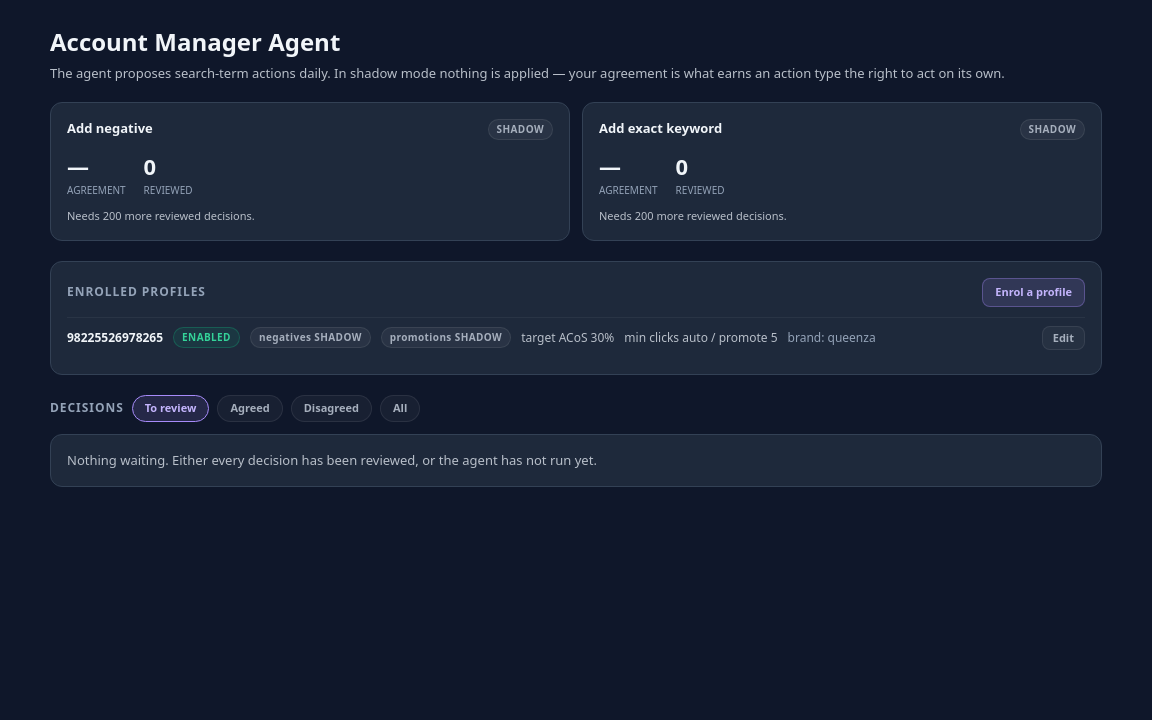
Test case: AgentPanel edit form › loads every stored value into its field
Expected: the text "98225526978265" is shown, [67,329,163,347]
Click the button "Edit" at (1063, 338), box [1042,326,1085,350]
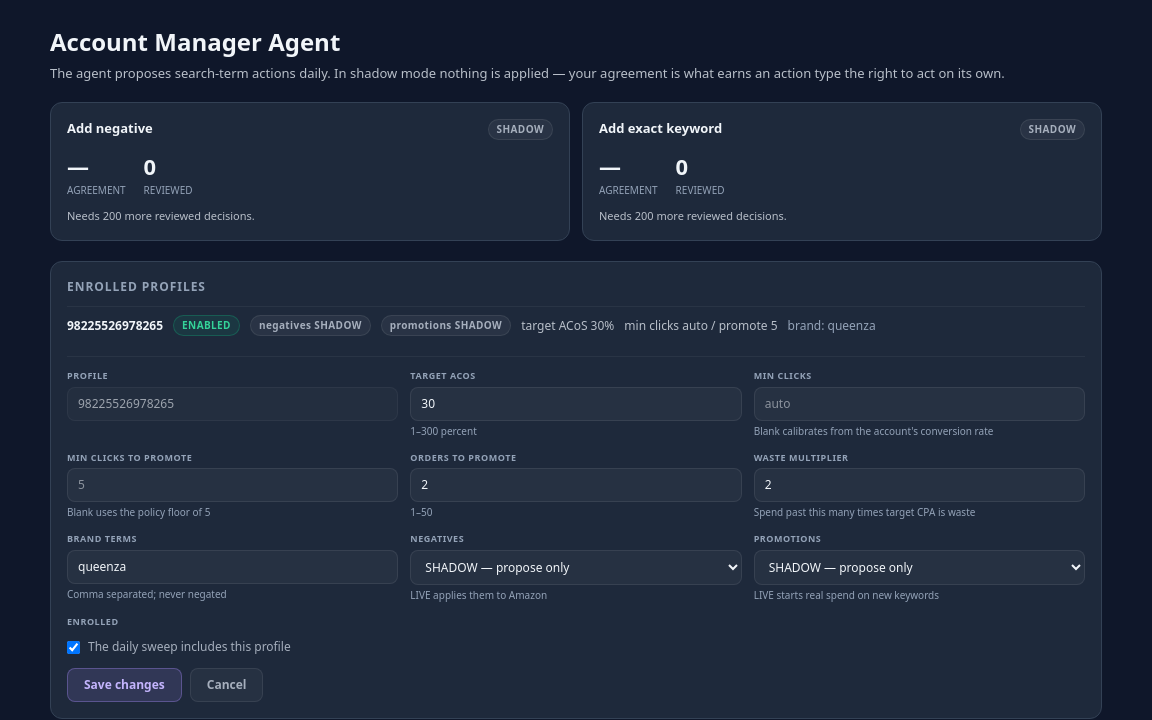
Result: the number field labelled "TARGET ACOS 1–300 percent" holds "30" at [410,386,742,420]
Result: the number field labelled "ORDERS TO PROMOTE 1–50" holds "2" at [410,468,742,502]
Result: the number field labelled "WASTE MULTIPLIER" holds "2" at [754,468,1085,502]
